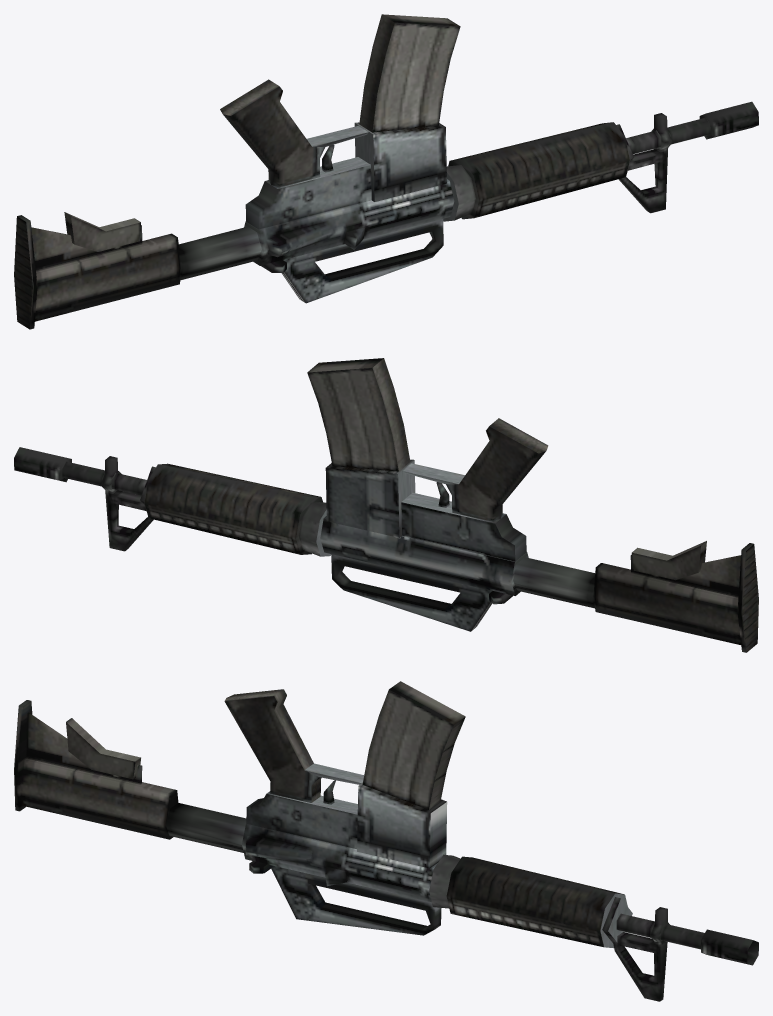
Rendered from Colt Commando.obj.
3 renders of one model, top to bottom at view 1: azimuth 30°, elevation 25°; view 2: azimuth 150°, elevation 25°; view 3: azimuth 330°, elevation 25°, orthographic. The views are drawn at different scales.
Parts seen in each view (by area): view 1: coltcommando.coltcommando.smd.mesh_0; view 2: coltcommando.coltcommando.smd.mesh_0; view 3: coltcommando.coltcommando.smd.mesh_0.
Boxes of the visible parts, left/top/right/bottom form: coltcommando.coltcommando.smd.mesh_0: left=14, top=14, right=758, bottom=329; coltcommando.coltcommando.smd.mesh_0: left=14, top=358, right=758, bottom=652; coltcommando.coltcommando.smd.mesh_0: left=14, top=681, right=758, bottom=1001.
Bounding box in the file's own units: 70.48 × 23.33 × 6.36.
1 material, 1 textured.
